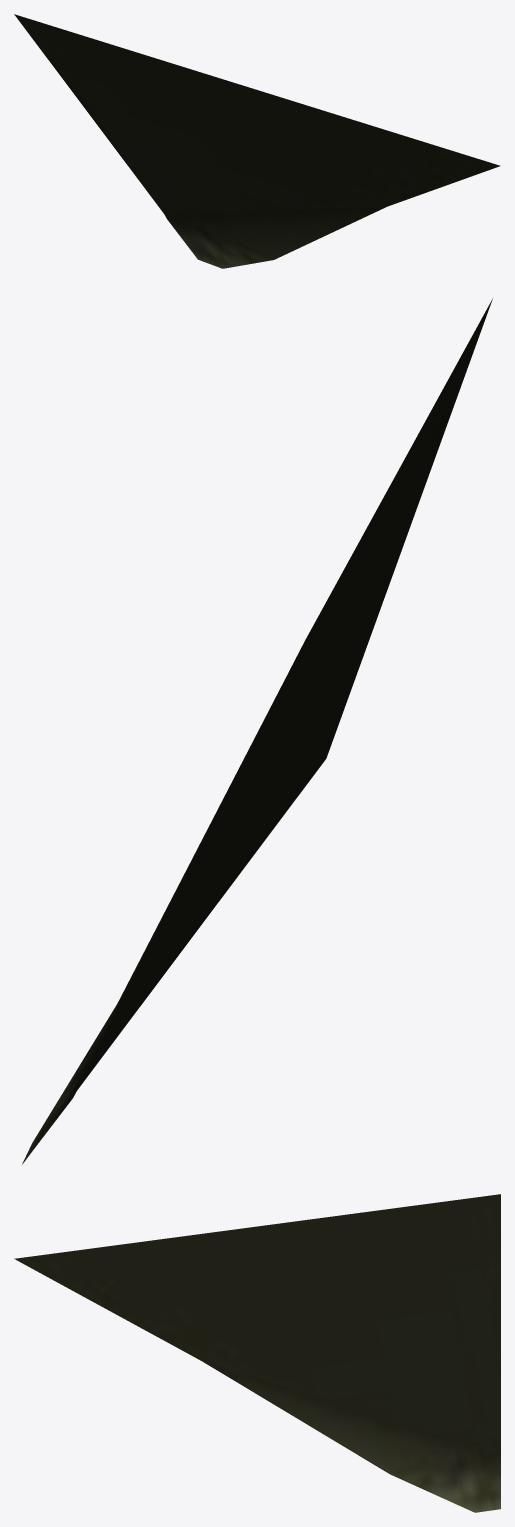
3 views of the same model, one above another, from view 1: azimuth 30°, elevation 25°; view 2: azimuth 150°, elevation 25°; view 3: azimuth 270°, elevation 25° (orthographic). The views are drawn at different scales.
Bounding box in the file's own units: 3.92 × 5.95 × 10.33.
Materials: 1 (1 with a texture image).
